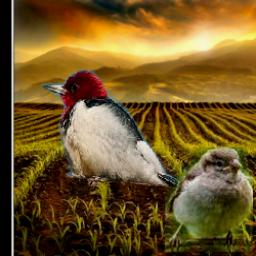Sparrow: (165, 149, 253, 253)
Woodpecker: (41, 70, 193, 190)
